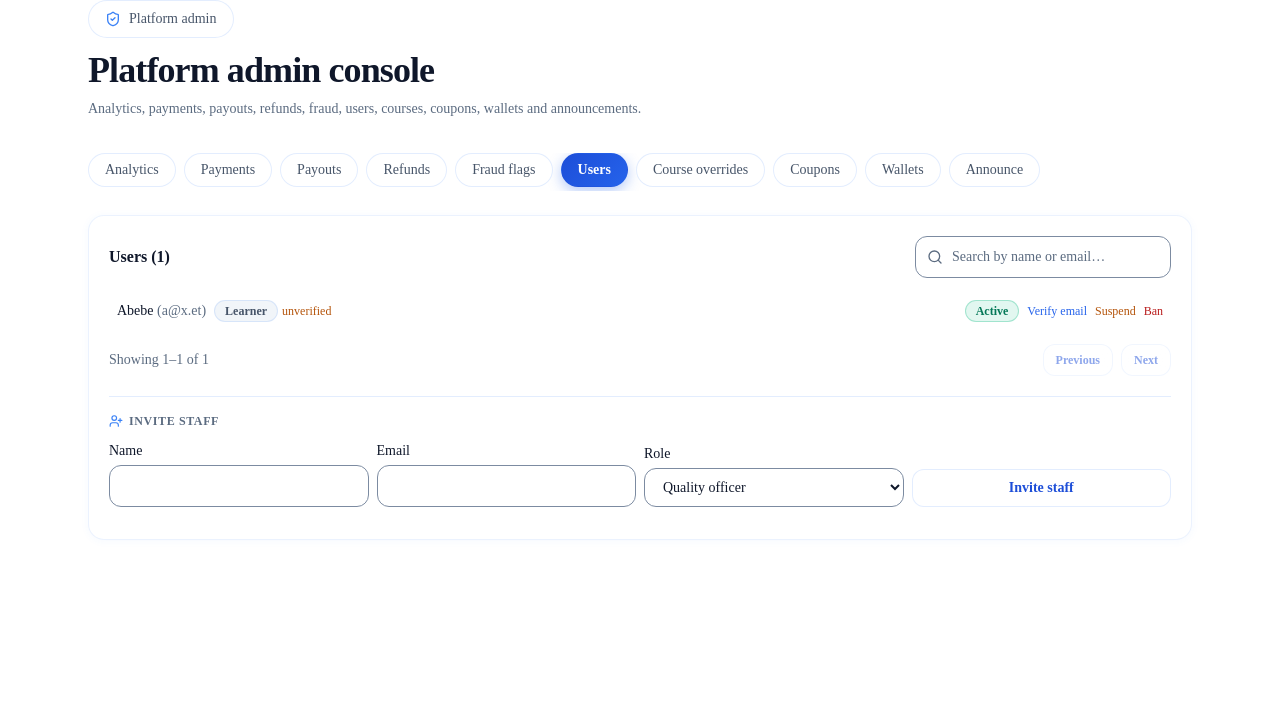
Scenario: Admin users: verify email › confirms, then posts verify-email and reloads the users
This screenshot has width=1280, height=720.
Expected: the text "unverified" is shown, [282,304,331,318]
Step 1. Click the button with aria-label "Verify email for Abebe" → (1057, 311), box [1027,303,1087,319]
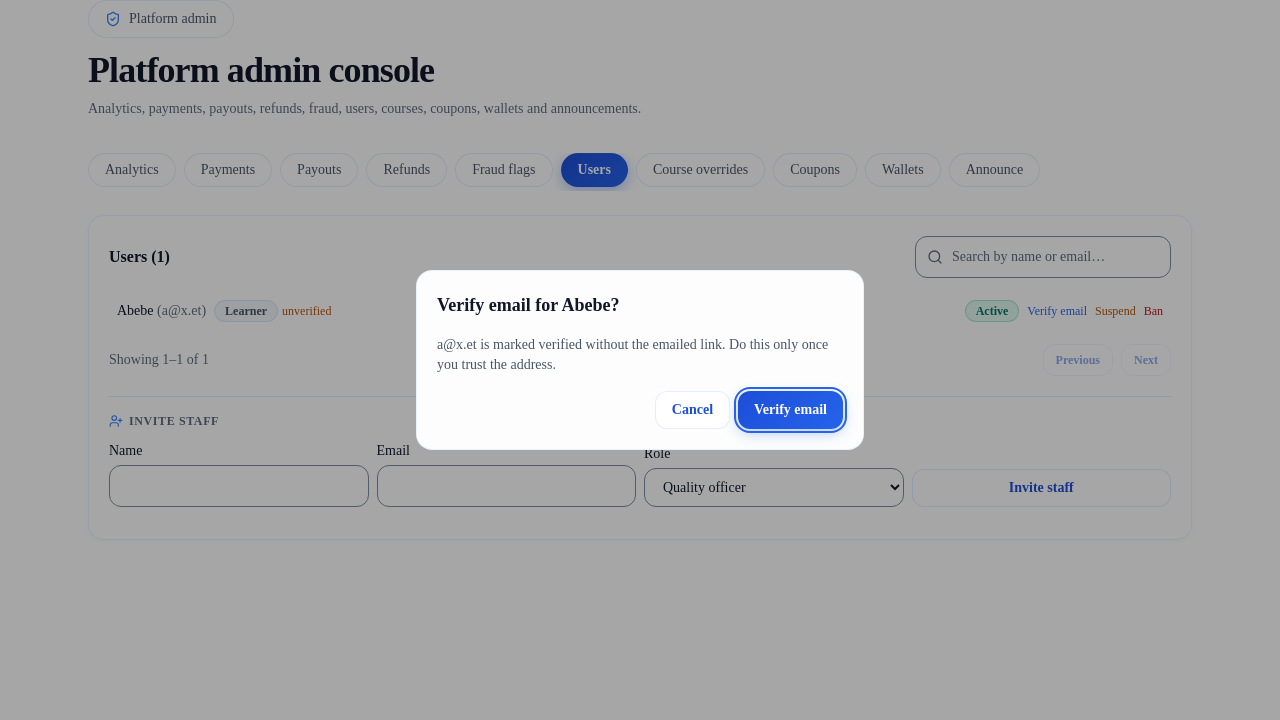
Step 2. Click the button "Verify email" → (790, 410), box [738,391,843,429]
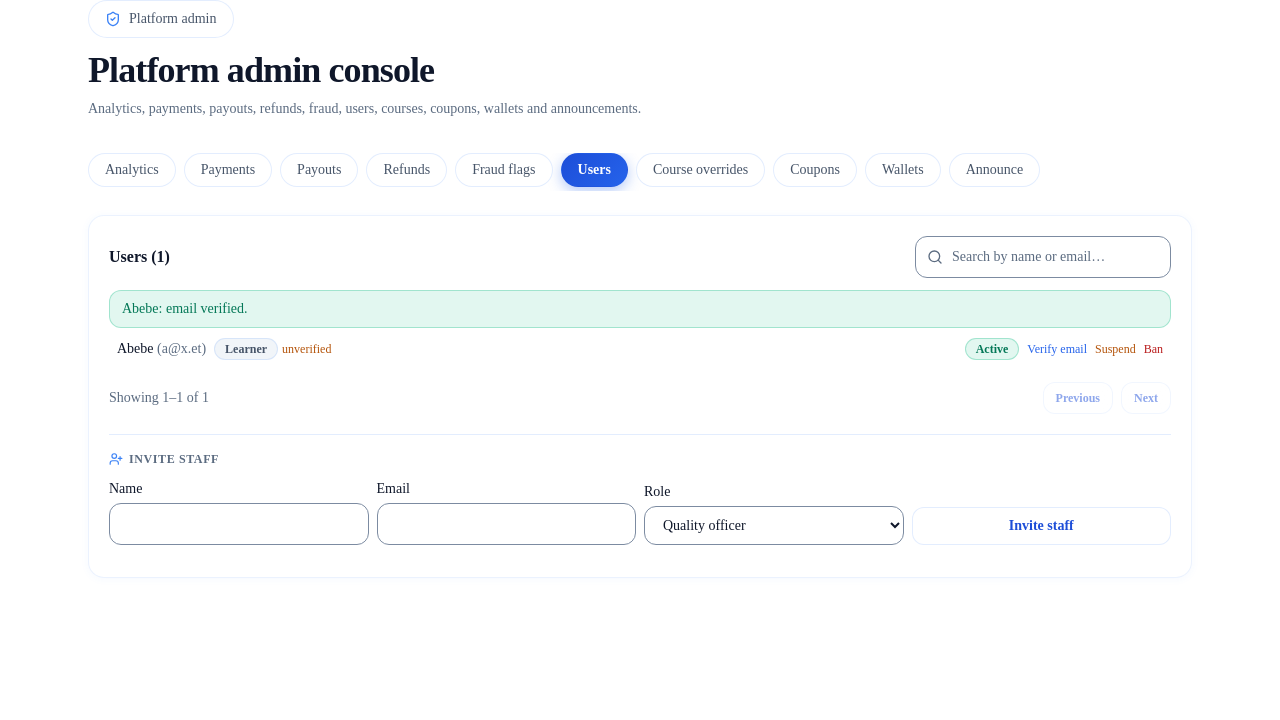
Expected: the text "Abebe: email verified." is shown, [109,290,1171,328]
